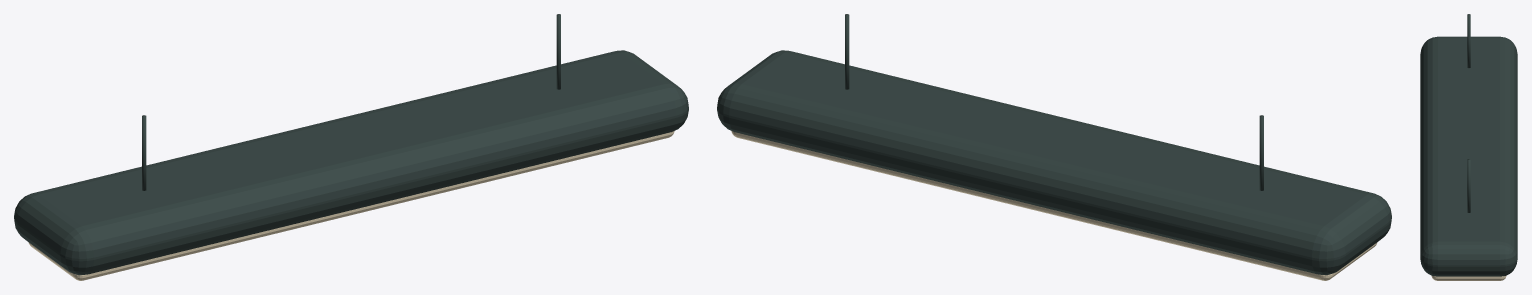
File: office_pendant.glb
The picture shows the model from 3 angles, left to right: view 1: azimuth 30°, elevation 25°; view 2: azimuth 150°, elevation 25°; view 3: azimuth 270°, elevation 25°; orthographic projection. The views are drawn at different scales.
Visible parts, largest first — view 1: Brushed graphite reflector, Recessed opal lens; view 2: Brushed graphite reflector, Recessed opal lens; view 3: Brushed graphite reflector, Recessed opal lens, Pendant wire, Pendant wire.001.
Part boxes in pixels (x1=…): Brushed graphite reflector: x1=14, y1=50, x2=688, y2=275; Recessed opal lens: x1=28, y1=131, x2=674, y2=280; Brushed graphite reflector: x1=717, y1=50, x2=1391, y2=275; Recessed opal lens: x1=731, y1=131, x2=1377, y2=280; Brushed graphite reflector: x1=1420, y1=36, x2=1517, y2=276; Recessed opal lens: x1=1431, y1=275, x2=1506, y2=280; Pendant wire: x1=1467, y1=14, x2=1470, y2=67; Pendant wire.001: x1=1467, y1=159, x2=1470, y2=212.
Size of the model in its own units: 2.02 by 0.3925 by 0.38.
